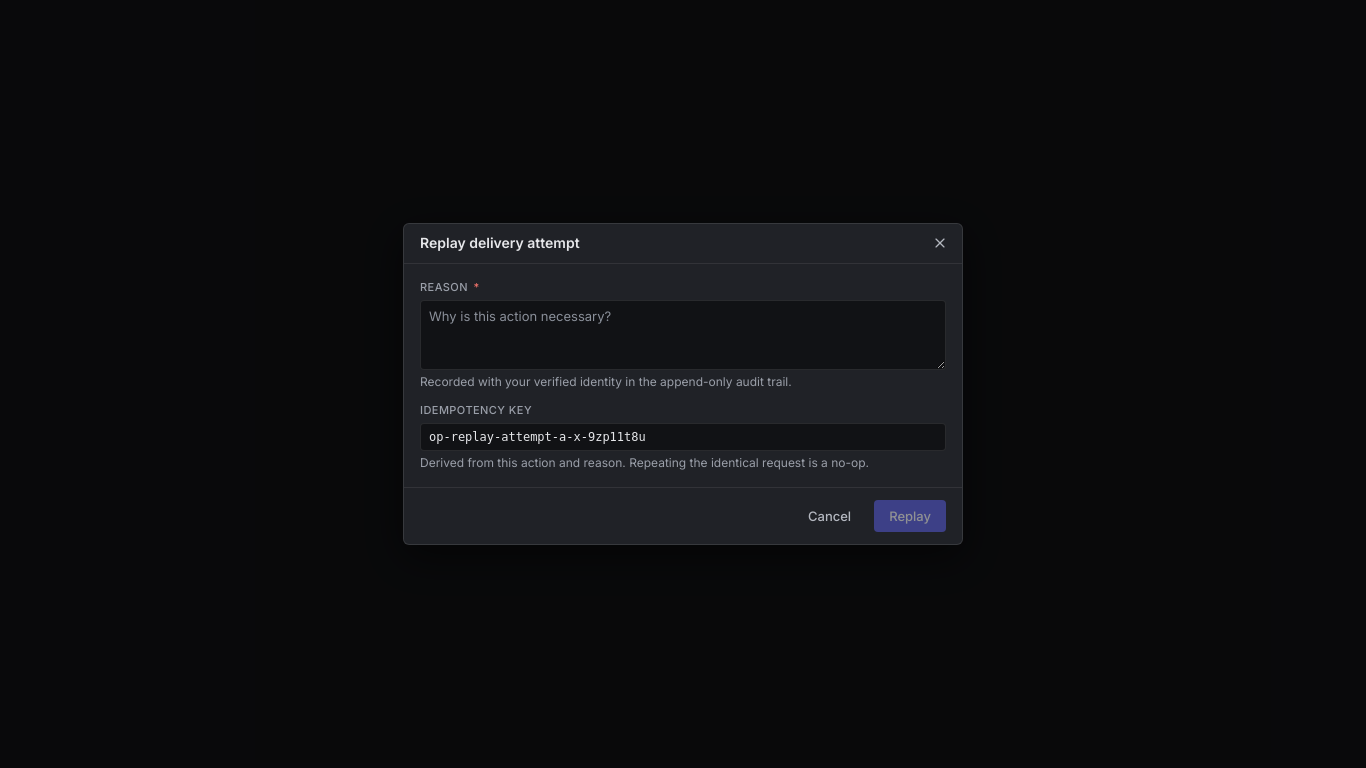
Scenario: ControlReasonDialog › disables confirm until a reason is entered and says why
Expected: the button "Replay" is disabled, [874, 500, 946, 532]
In the text box labelled "Reason *": [683, 335] box [420, 300, 946, 370], type "Destination outage repaired"
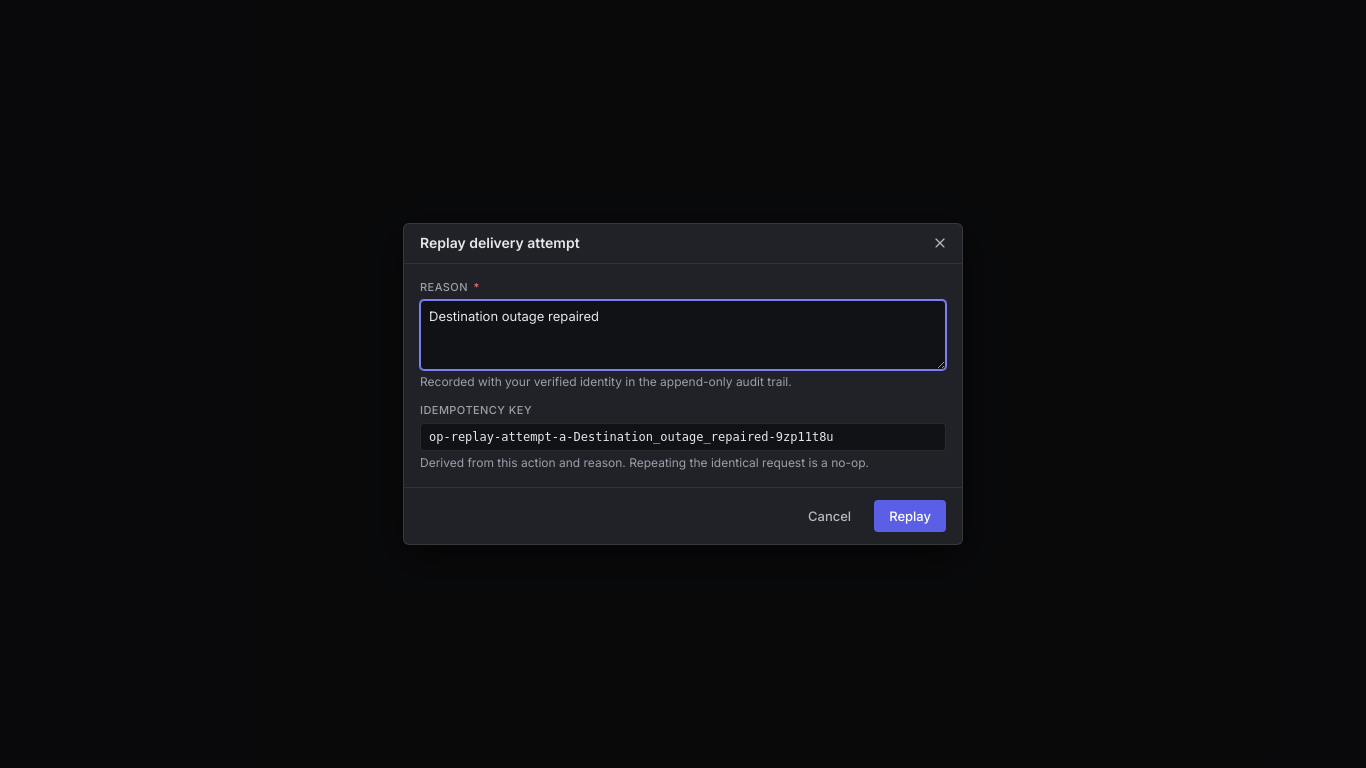
Result: the button "Replay" is enabled at [874, 500, 946, 532]
